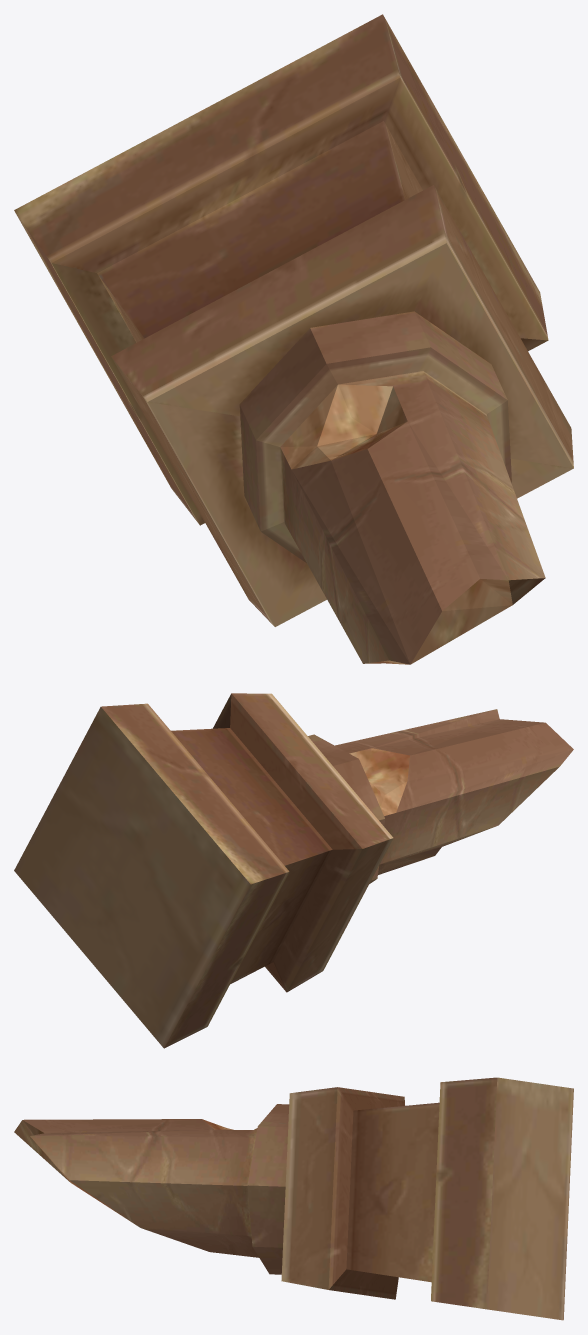
File: caodi_zhuzi_01.fbx
The picture shows the model from 3 angles, top to bottom: view 1: azimuth 30°, elevation 25°; view 2: azimuth 150°, elevation 25°; view 3: azimuth 270°, elevation 25°; orthographic projection. The views are drawn at different scales.
Visible parts, largest first — view 1: caodi_zhuzi_01; view 2: caodi_zhuzi_01; view 3: caodi_zhuzi_01.
Boxes of the visible parts, x1=… form: caodi_zhuzi_01: x1=14, y1=14, x2=573, y2=664; caodi_zhuzi_01: x1=14, y1=693, x2=573, y2=1048; caodi_zhuzi_01: x1=14, y1=1077, x2=573, y2=1320.
Bounding box in the file's own units: 5.16 × 4.53 × 7.93.
